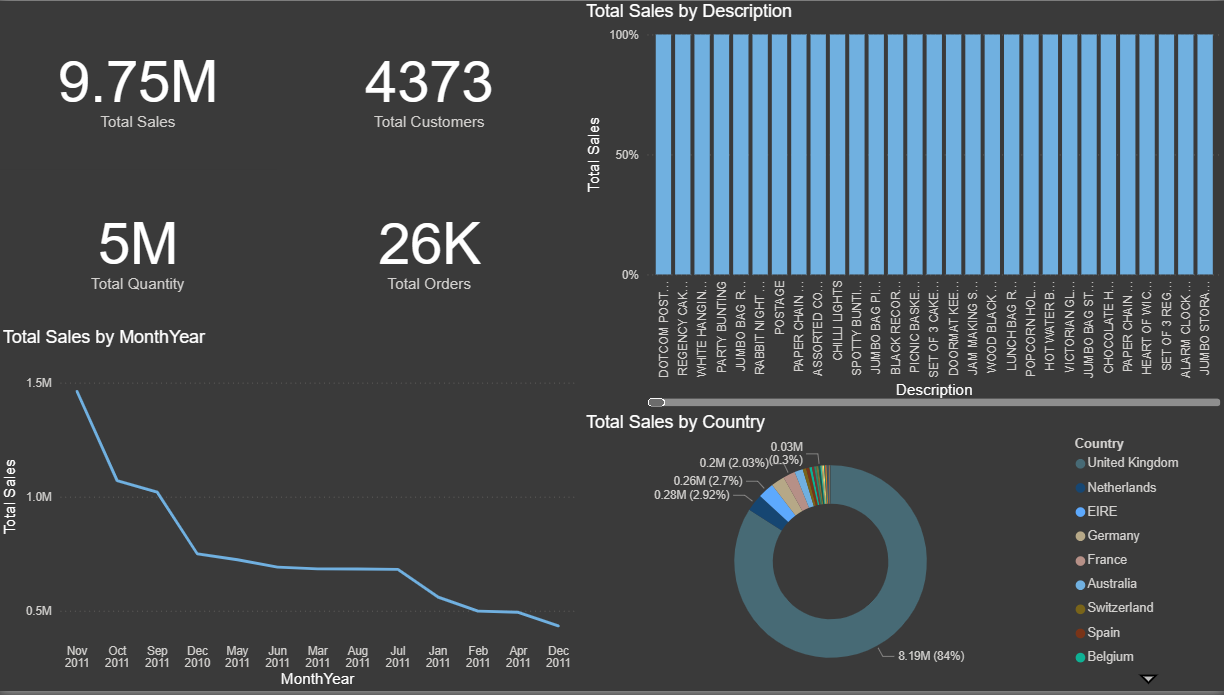

The page's visual inventory and layout, read from the dashboard file:
{"tool":"powerbi","page":{"name":"Page 1","canvas":[1280,720],"ordinal":0},"visuals":[{"type":"card","fields":{"Values":["online_retail.Total Sales"]},"box":[0,0,291.6,176.3],"z":0},{"type":"card","fields":{"Values":["online_retail.Total Quantity"]},"box":[0,176.3,291.6,162.4],"z":1},{"type":"card","fields":{"Values":["online_retail.Total Orders"]},"box":[291.6,176.3,316.6,162.4],"z":2},{"type":"card","fields":{"Values":["online_retail.Total Customers"]},"box":[291.6,0,316.6,176.3],"z":3},{"type":"lineChart","fields":{"Category":["online_retail.MonthYear"],"Y":["online_retail.Total Sales"]},"box":[0,338.8,608.1,381.8],"z":5},{"type":"hundredPercentStackedColumnChart","fields":{"Category":["online_retail.Description"],"Y":["online_retail.Total Sales"]},"box":[608.1,0,672,427.6],"z":6},{"type":"donutChart","fields":{"Category":["online_retail.Country"],"Y":["online_retail.Total Sales"]},"box":[608,428,672,292],"z":7}]}

Visuals, with their boxes in screenshot pixels (x1, y1, x2, y2), scaled from the page's 1280x720 canvas onto the 1224x695 screenshot:
card - online_retail.Total Sales: [left=0, top=0, right=279, bottom=170]
card - online_retail.Total Quantity: [left=0, top=170, right=279, bottom=327]
card - online_retail.Total Orders: [left=279, top=170, right=582, bottom=327]
card - online_retail.Total Customers: [left=279, top=0, right=582, bottom=170]
lineChart - online_retail.MonthYear x online_retail.Total Sales: [left=0, top=327, right=581, bottom=694]
hundredPercentStackedColumnChart - online_retail.Description x online_retail.Total Sales: [left=581, top=0, right=1223, bottom=413]
donutChart - online_retail.Country x online_retail.Total Sales: [left=581, top=413, right=1223, bottom=694]
